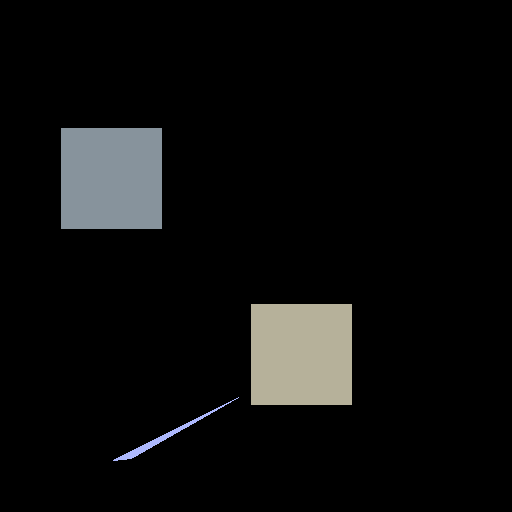square: (251, 304, 351, 404), (61, 128, 161, 228)
triangle: (113, 397, 238, 460)
